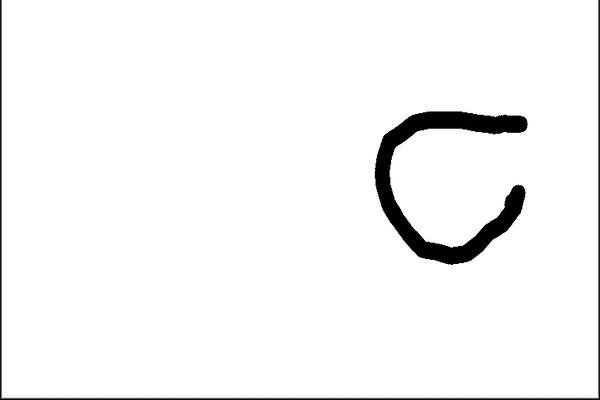C: (370, 99, 532, 266)
